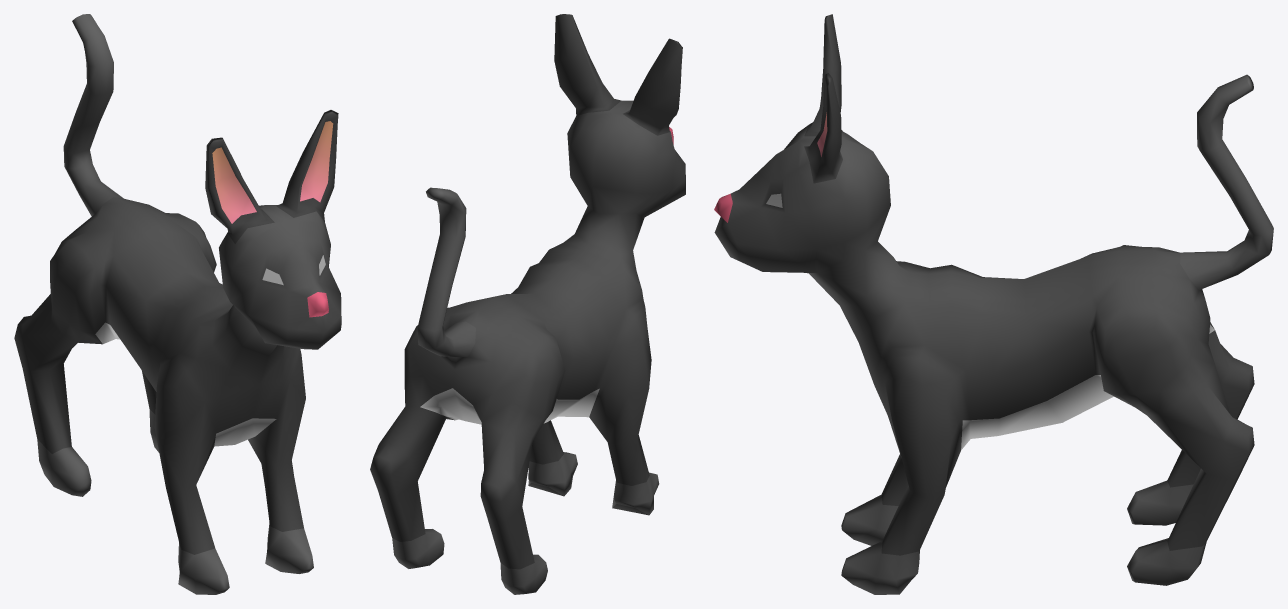
The model's file is cat.glb.
3 views of the same model, side by side, from view 1: azimuth 30°, elevation 25°; view 2: azimuth 150°, elevation 25°; view 3: azimuth 270°, elevation 25° (orthographic). The views are drawn at different scales.
Parts seen in each view (by area): view 1: Cube; view 2: Cube; view 3: Cube.
Part boxes in pixels (x1,y1,x2,y2): Cube: [14, 14, 341, 594]; Cube: [370, 14, 685, 594]; Cube: [714, 14, 1273, 594].
Size of the model in its own units: 0.4033 by 1.24 by 1.21.
1 material, 1 textured.
